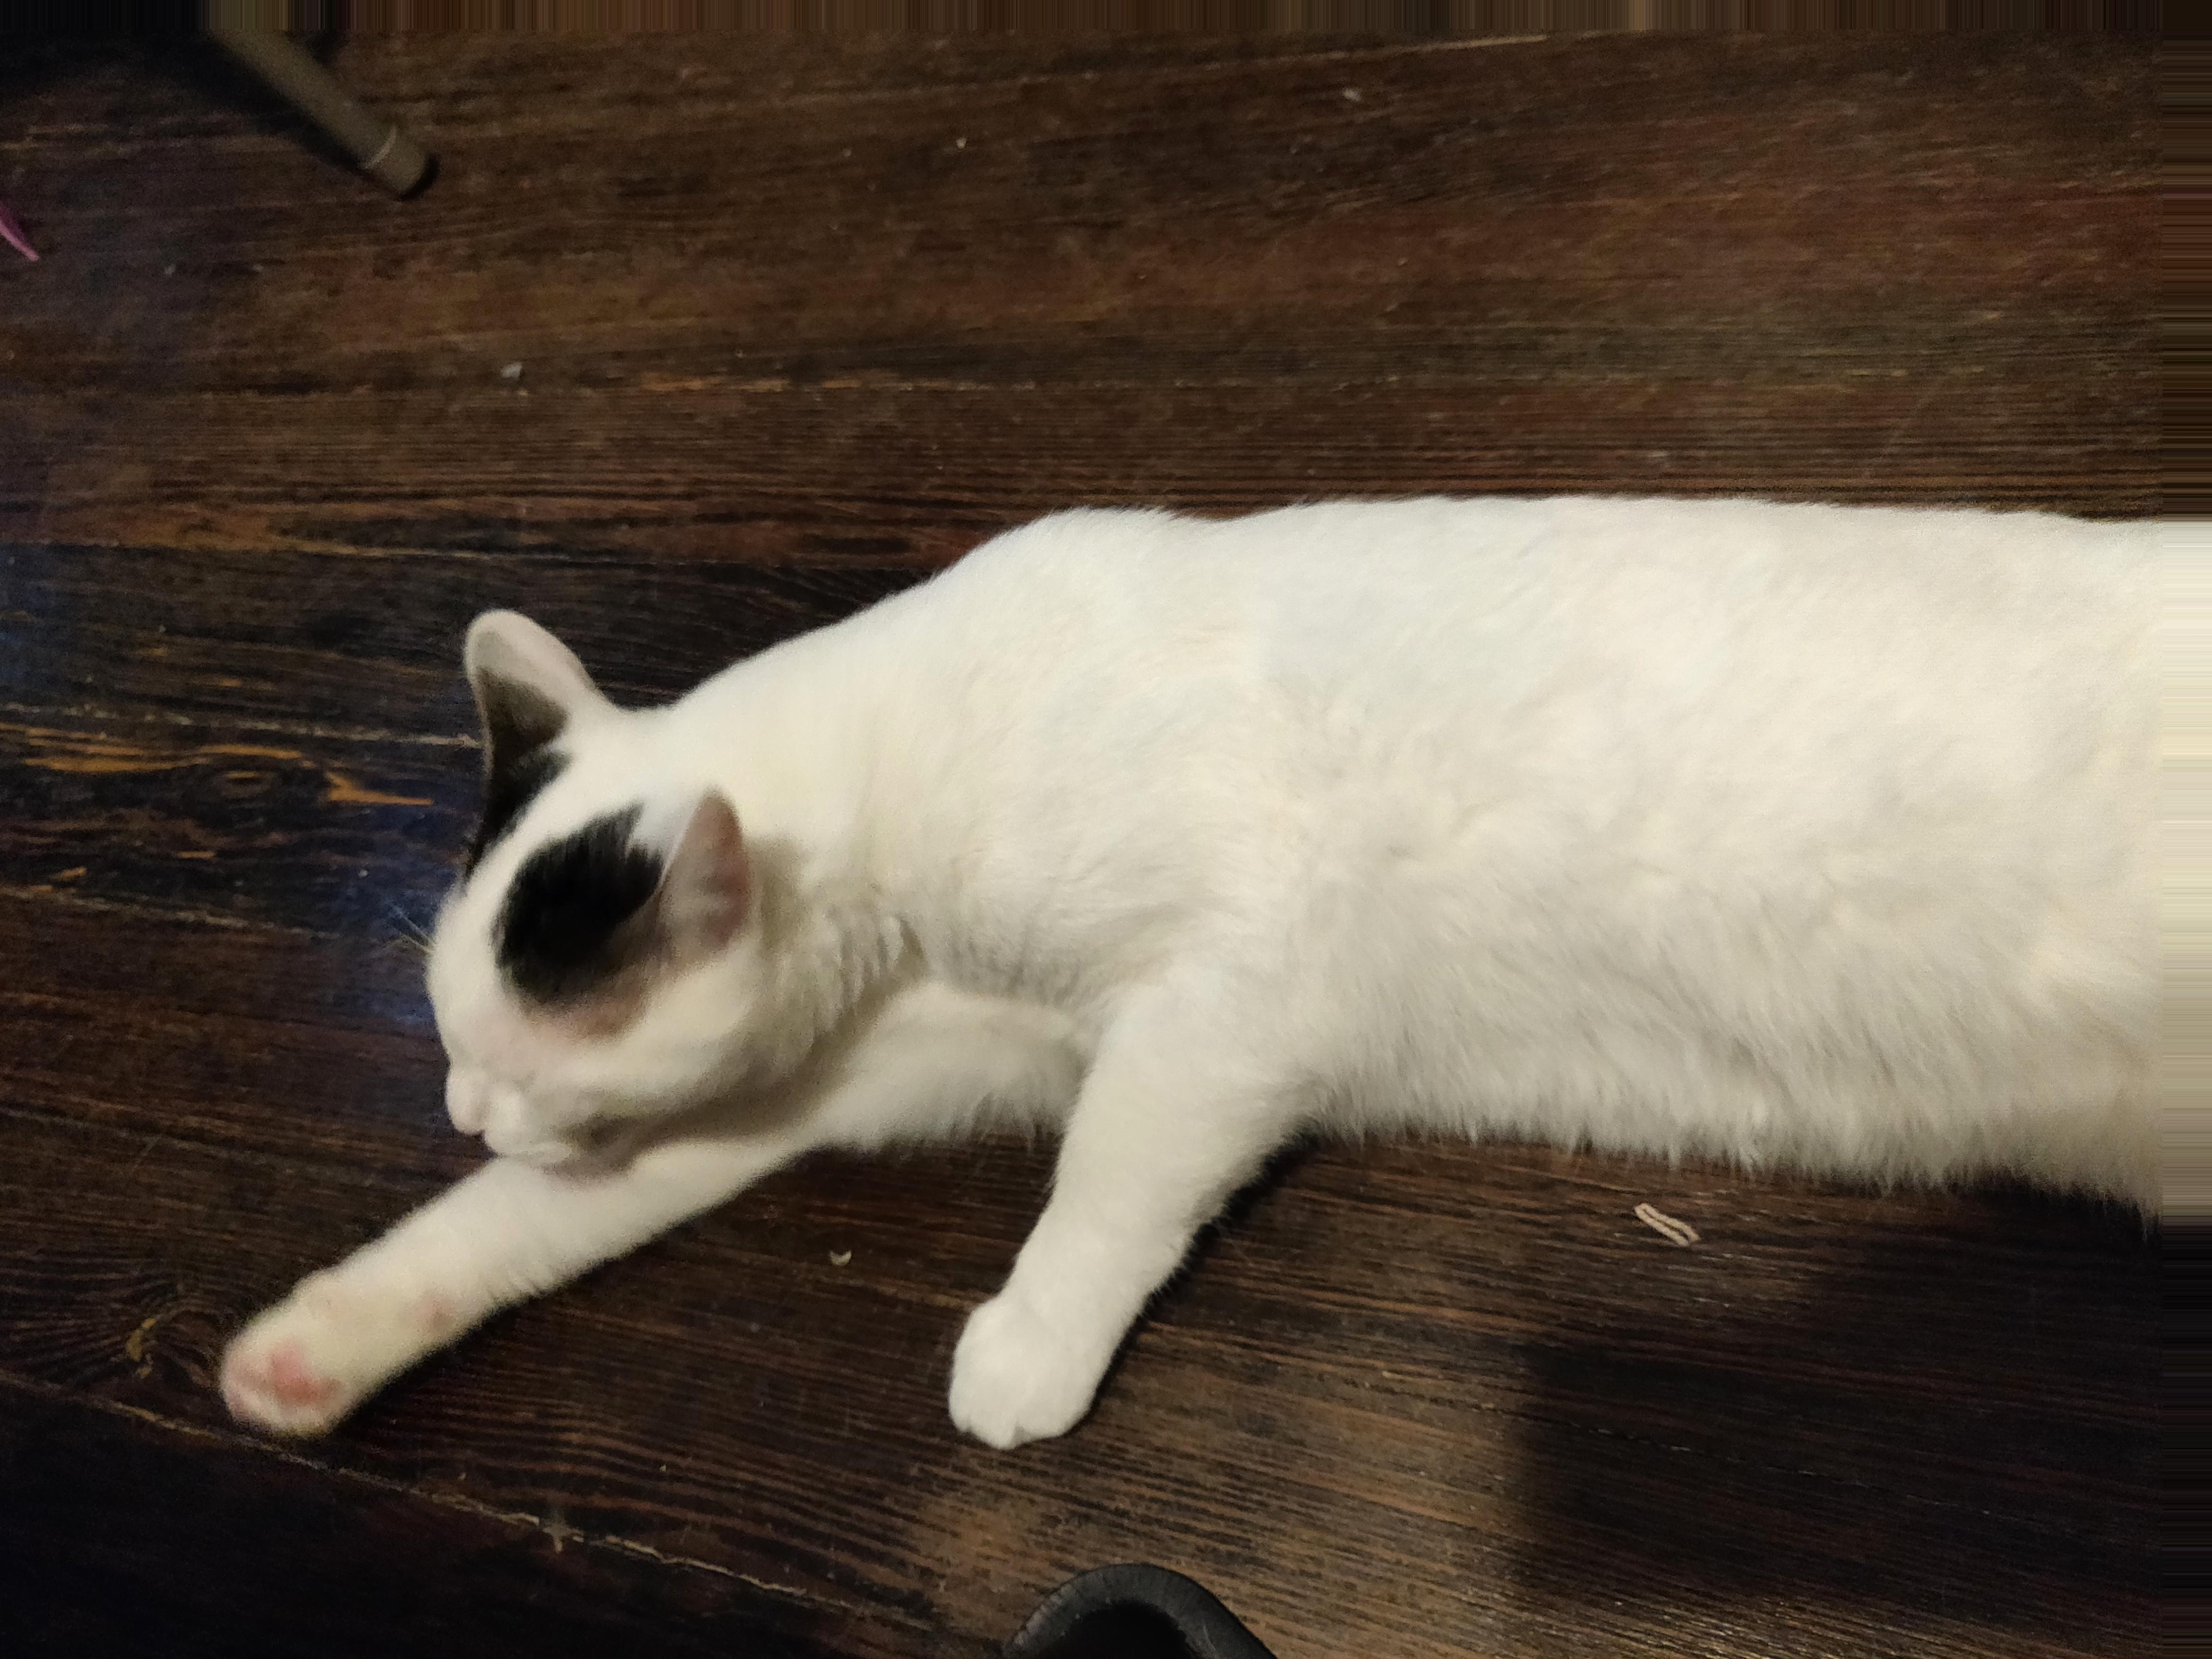cat: (217, 505, 2194, 1447)
